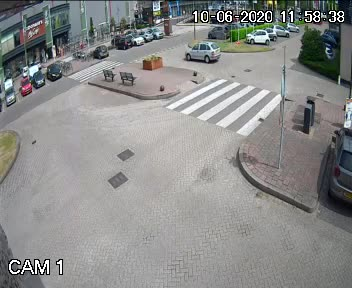car: (187, 38, 218, 64)
